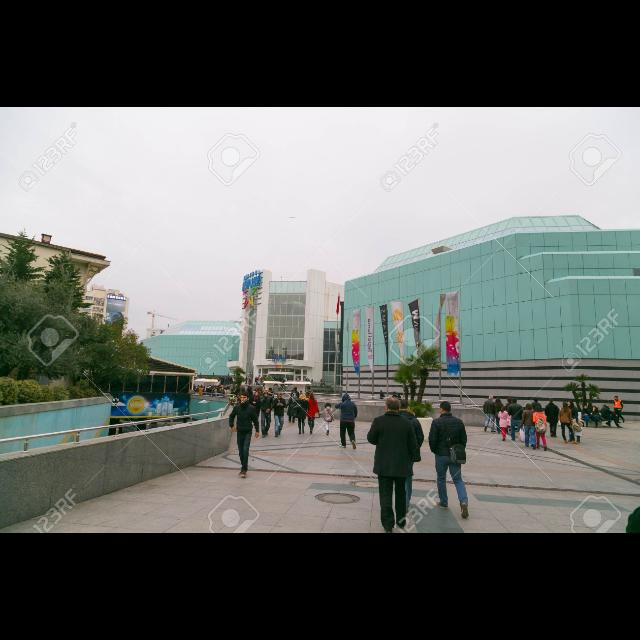head: (385, 396, 401, 412), (440, 400, 452, 416), (398, 399, 410, 411), (240, 394, 250, 404), (343, 394, 351, 402), (277, 394, 283, 401), (300, 394, 306, 400), (308, 394, 314, 400), (511, 398, 517, 404), (536, 407, 542, 413), (567, 402, 573, 408), (264, 389, 268, 395), (488, 396, 494, 400), (502, 406, 506, 412), (508, 398, 512, 404), (526, 406, 532, 410), (548, 399, 554, 403), (567, 402, 573, 406), (578, 422, 582, 428), (255, 392, 259, 396), (294, 388, 298, 392), (293, 393, 297, 397), (326, 404, 330, 408), (497, 399, 501, 403), (534, 399, 538, 403), (584, 406, 588, 410), (593, 407, 597, 411), (603, 405, 607, 409), (606, 406, 610, 410), (615, 396, 619, 400), (260, 390, 262, 394), (308, 386, 310, 390), (293, 391, 295, 394), (300, 392, 302, 394), (381, 392, 383, 394), (394, 391, 396, 393), (399, 394, 401, 396)
person: (366, 396, 419, 534), (428, 400, 470, 520), (390, 399, 426, 515), (228, 392, 260, 478), (335, 393, 359, 451), (558, 402, 580, 444), (259, 389, 275, 439), (506, 400, 524, 442), (520, 404, 536, 451), (272, 392, 288, 438), (532, 406, 548, 452), (294, 393, 310, 435), (544, 399, 560, 439), (566, 401, 580, 443), (306, 394, 320, 434), (482, 394, 496, 434), (318, 402, 334, 436), (601, 404, 623, 428), (498, 406, 512, 442), (286, 392, 300, 424), (600, 404, 622, 424), (530, 398, 542, 432), (612, 396, 626, 424), (494, 398, 504, 434), (506, 397, 516, 433), (251, 391, 261, 425), (581, 405, 593, 429), (590, 406, 602, 428), (574, 421, 584, 444), (292, 387, 300, 413), (306, 386, 314, 412), (290, 390, 298, 412), (258, 388, 264, 412), (299, 391, 305, 409), (391, 391, 397, 403), (380, 390, 384, 402), (398, 393, 402, 405)
